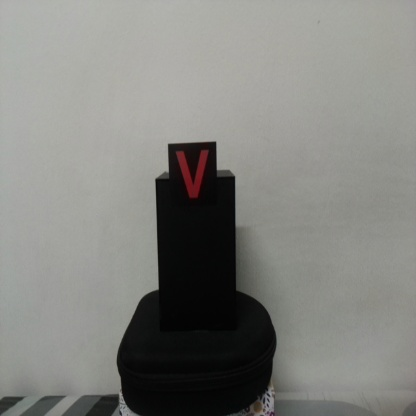id_11: (168, 145, 216, 209)
